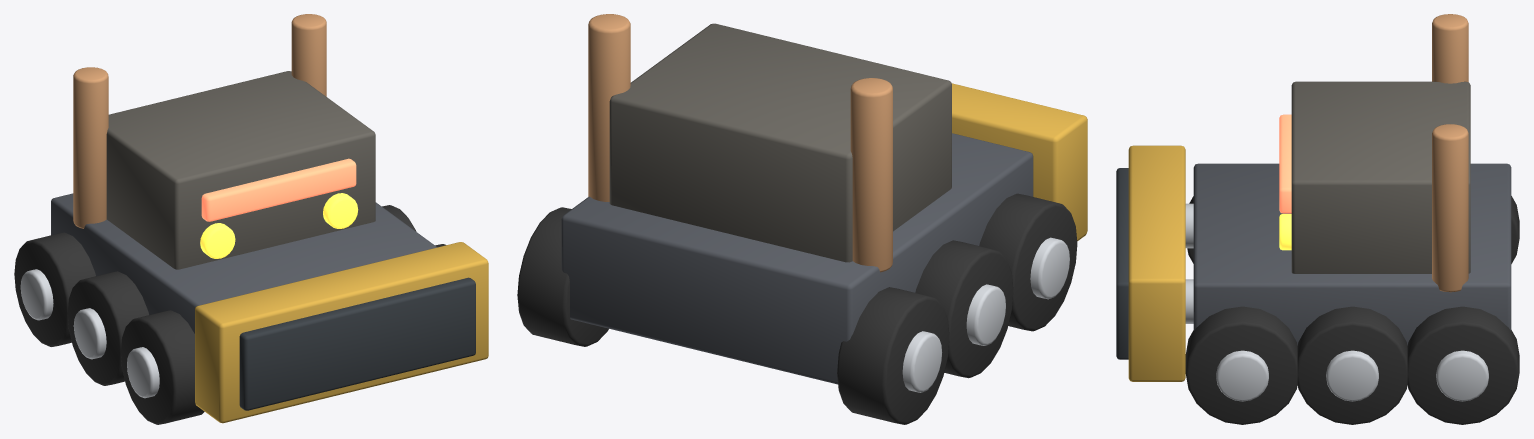
File: enemy_colosso_frizione.glb
The picture shows the model from 3 angles, left to right: view 1: azimuth 30°, elevation 25°; view 2: azimuth 150°, elevation 25°; view 3: azimuth 270°, elevation 25°; orthographic projection. The views are drawn at different scales.
Visible parts, largest first — view 1: ArmoredCab, HammerImpactPlate, PneumaticHammerHead, JuggernautChassis, Wheel_-1_-0.54, DieselStack_-1, Wheel_-1_0.0, Wheel_-1_0.54, BunkerVisor, DieselStack_1, Hub_-1_0.0, Hub_-1_0.54 (+3 smaller); view 2: ArmoredCab, JuggernautChassis, Wheel_-1_0.54, PneumaticHammerHead, DieselStack_-1, Wheel_-1_0.0, Wheel_-1_-0.54, Wheel_1_0.54, DieselStack_1, Hub_-1_0.54, Hub_-1_-0.54, Hub_-1_0.0; view 3: ArmoredCab, JuggernautChassis, PneumaticHammerHead, Wheel_1_0.54, Wheel_1_-0.54, Wheel_1_0.0, DieselStack_1, HammerImpactPlate, DieselStack_-1, Hub_1_0.54, Hub_1_0.0, Hub_1_-0.54 (+5 smaller).
Part boxes in pixels (x1,y1,x2,y2): ArmoredCab: (106, 71, 375, 269); HammerImpactPlate: (239, 277, 475, 410); PneumaticHammerHead: (195, 242, 488, 423); JuggernautChassis: (51, 193, 437, 333); Wheel_-1_-0.54: (120, 310, 204, 424); DieselStack_-1: (73, 67, 108, 228); Wheel_-1_0.0: (67, 271, 148, 385); Wheel_-1_0.54: (14, 232, 95, 346); BunkerVisor: (201, 158, 356, 221); DieselStack_1: (291, 14, 326, 96); Hub_-1_0.0: (73, 308, 106, 359); Hub_-1_0.54: (20, 269, 53, 320); ArmoredCab: (609, 23, 951, 262); JuggernautChassis: (561, 133, 1033, 384); Wheel_-1_0.54: (837, 287, 949, 424); PneumaticHammerHead: (951, 83, 1087, 240); DieselStack_-1: (850, 78, 892, 272); Wheel_-1_0.0: (915, 240, 1013, 378); Wheel_-1_-0.54: (979, 193, 1077, 331); Wheel_1_0.54: (517, 207, 608, 346); DieselStack_1: (588, 14, 630, 201); Hub_-1_0.54: (902, 331, 942, 392); Hub_-1_-0.54: (1030, 237, 1069, 299); Hub_-1_0.0: (966, 284, 1005, 345); ArmoredCab: (1291, 81, 1470, 273); JuggernautChassis: (1193, 163, 1511, 345); PneumaticHammerHead: (1128, 145, 1185, 381); Wheel_1_0.54: (1407, 306, 1519, 424); Wheel_1_-0.54: (1185, 306, 1297, 424); Wheel_1_0.0: (1297, 306, 1407, 424); DieselStack_1: (1432, 124, 1468, 292); HammerImpactPlate: (1116, 168, 1128, 359); DieselStack_-1: (1432, 14, 1468, 83); Hub_1_0.54: (1436, 350, 1488, 401); Hub_1_0.0: (1326, 350, 1378, 401); Hub_1_-0.54: (1216, 350, 1268, 401).
Size of the model in its own units: 1.9 by 1.48 by 1.98.
